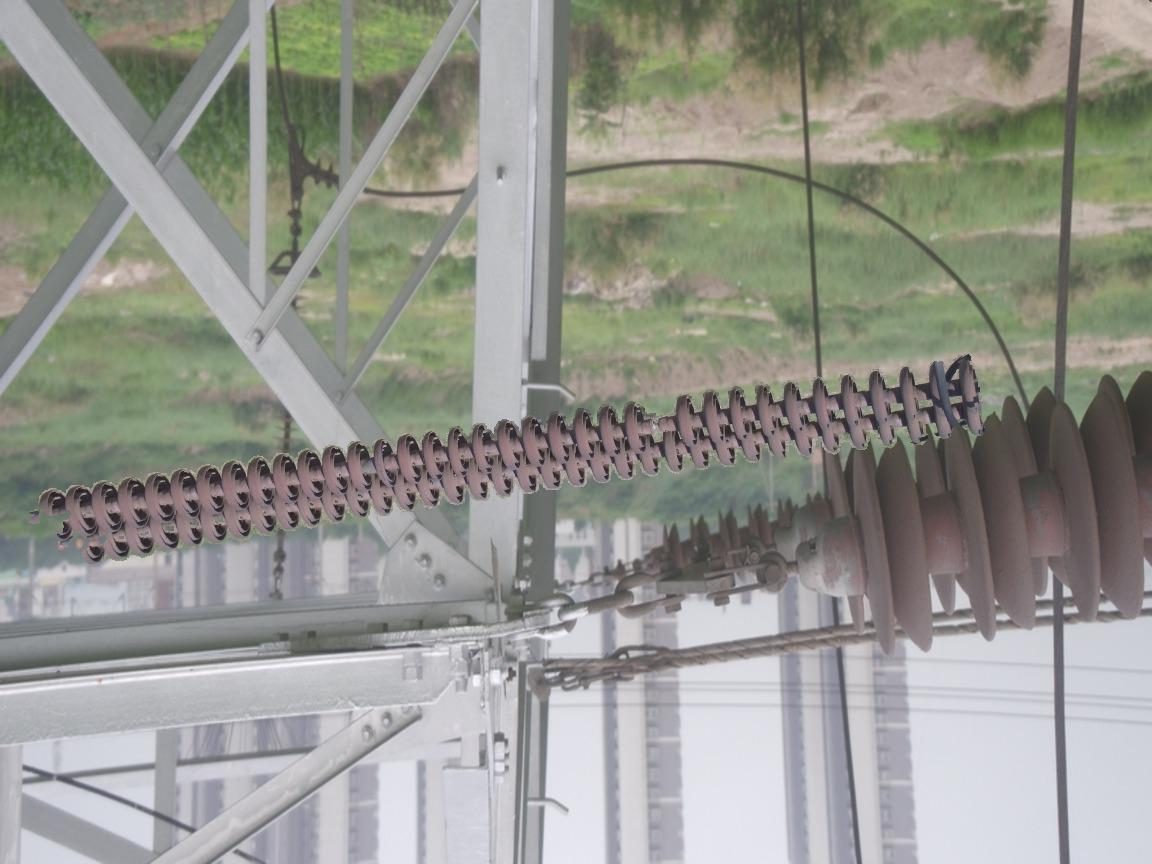insulator: (44, 353, 990, 568), (802, 358, 1152, 659)
insulator_stringdrop: (621, 392, 701, 457)
